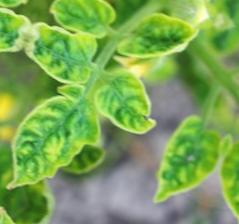Tomato leaf yellow virus: (0, 74, 107, 219), (129, 108, 232, 224), (15, 14, 113, 100), (78, 64, 172, 149), (112, 0, 209, 74)
